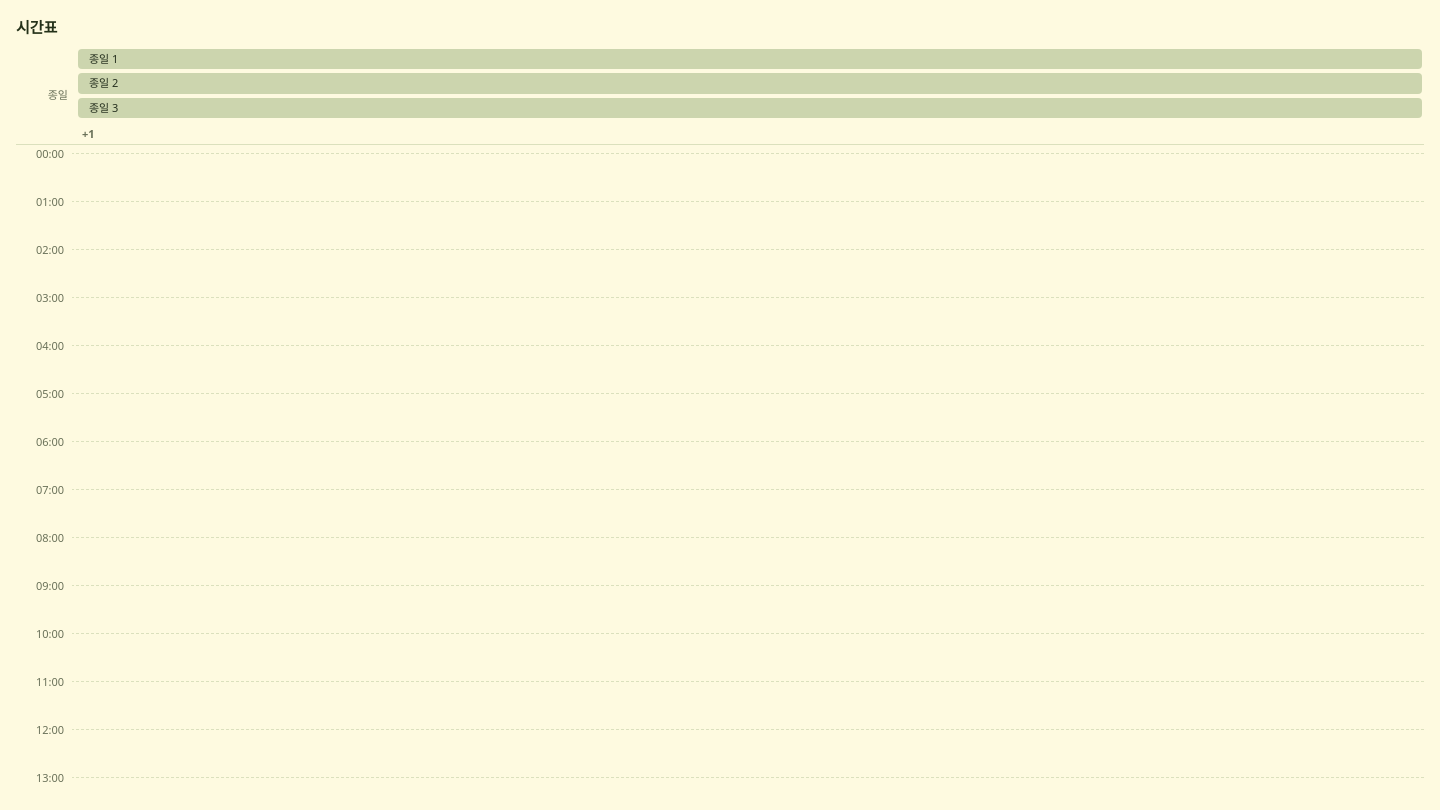
Scenario: 종일 줄 3줄 + n (D-052 ③) › 종일 일정이 3개를 넘으면 3개만 보이고 '+n' → 그날 종일 일정 전부
Expected: the number of buttons "종일 1" is 3, top-left (78, 48), bottom-right (1422, 69); top-left (78, 73), bottom-right (1422, 94); top-left (78, 98), bottom-right (1422, 118)
Click the button named "9월 25일 (금) 종일 일정 1개 더 보기".
click(85, 134)  # box top-left (76, 126), bottom-right (1424, 142)
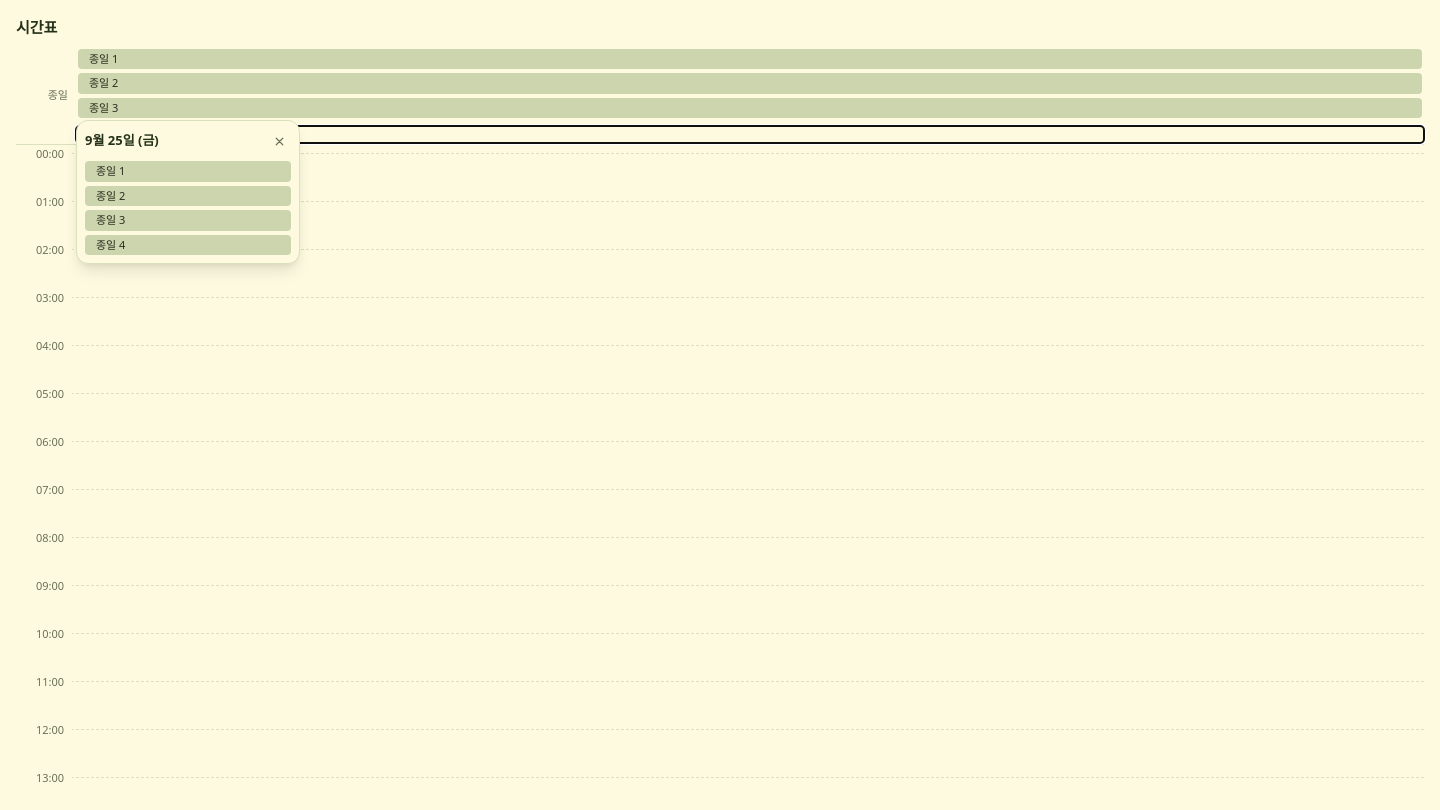
Expected: the number of buttons "종일 1" is 4, top-left (85, 161), bottom-right (291, 182); top-left (85, 186), bottom-right (291, 206); top-left (85, 210), bottom-right (291, 230); top-left (85, 234), bottom-right (291, 255)
